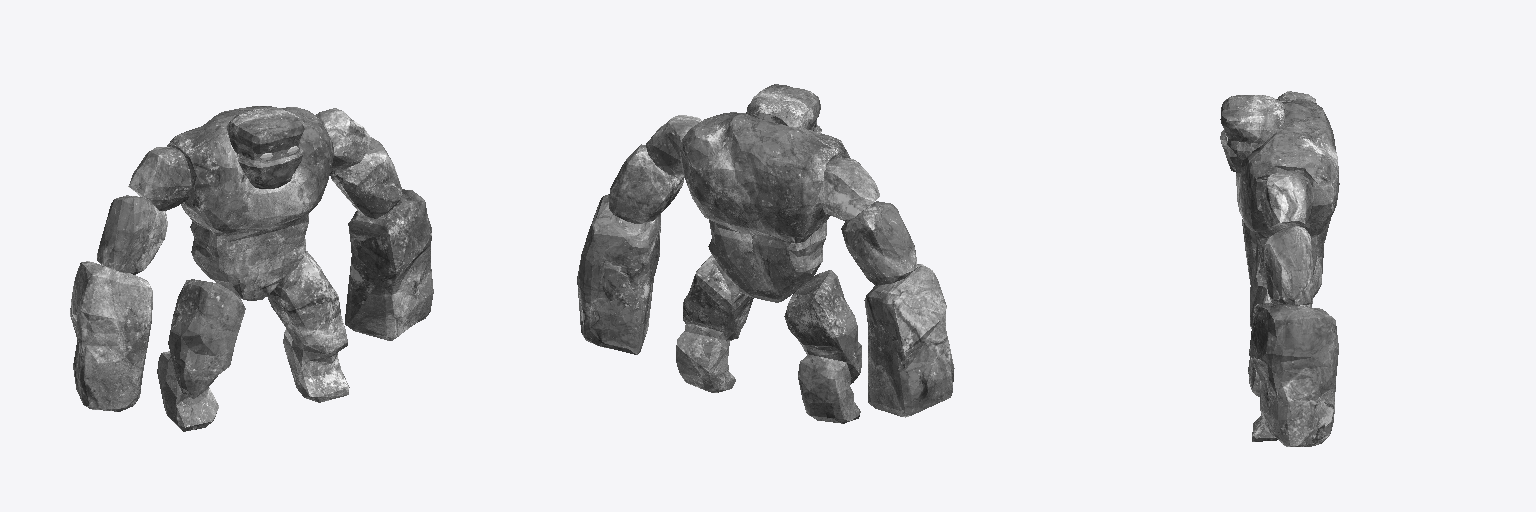
The picture shows the model from 3 angles: view 1: azimuth 30°, elevation 25°; view 2: azimuth 150°, elevation 25°; view 3: azimuth 270°, elevation 25°; orthographic projection.
Visible parts, largest first — view 1: hands_leg_001_ice_003, torso_001_ice_005, head_001_ice_004; view 2: hands_leg_001_ice_003, torso_001_ice_005, head_001_ice_004; view 3: hands_leg_001_ice_003, torso_001_ice_005, head_001_ice_004.
Boxes of the visible parts, box(x1,y1,x2,y2) form: hands_leg_001_ice_003: box(70, 108, 433, 431); torso_001_ice_005: box(167, 106, 333, 300); head_001_ice_004: box(227, 108, 304, 188); hands_leg_001_ice_003: box(577, 115, 954, 423); torso_001_ice_005: box(680, 112, 849, 302); head_001_ice_004: box(746, 84, 821, 132); hands_leg_001_ice_003: box(1242, 91, 1338, 446); torso_001_ice_005: box(1236, 98, 1339, 291); head_001_ice_004: box(1220, 95, 1284, 173).
Size of the model in its own units: 20.07 by 16.16 by 5.76.
Materials: 2 (1 with a texture image).